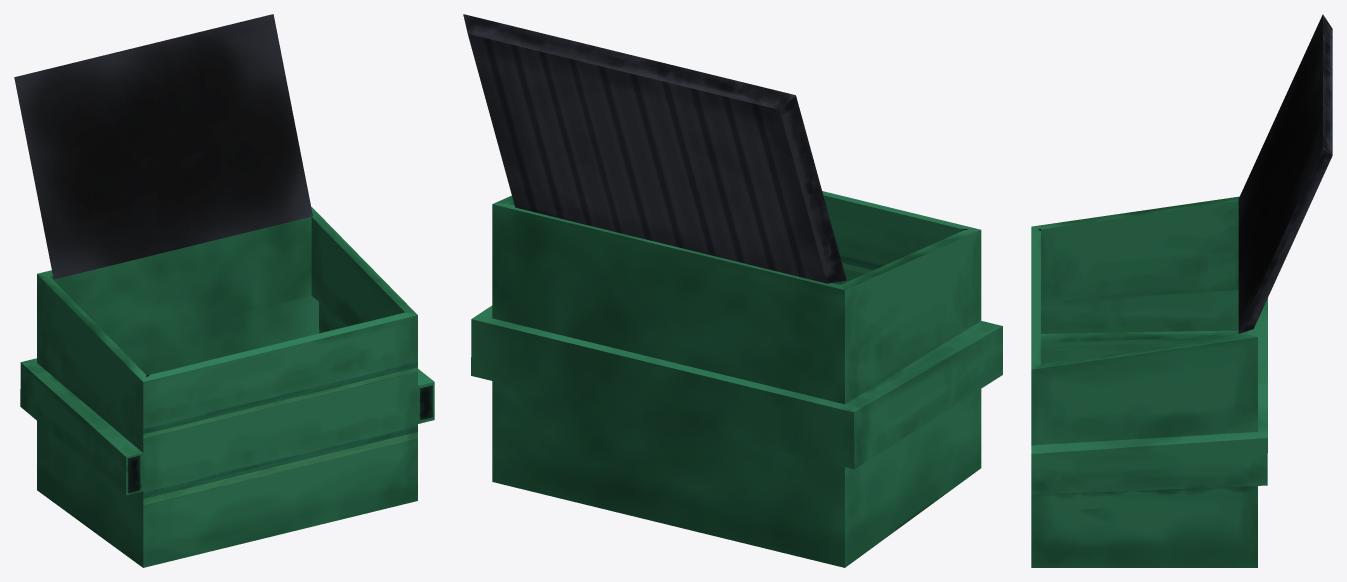
The model's file is dumpster.gltf.
3 views of the same model, side by side, from view 1: azimuth 30°, elevation 25°; view 2: azimuth 150°, elevation 25°; view 3: azimuth 270°, elevation 25° (orthographic). The views are drawn at different scales.
Parts seen in each view (by area): view 1: Dumpster, DumpsterOpener; view 2: Dumpster, DumpsterOpener; view 3: Dumpster, DumpsterOpener.
Boxes of the visible parts, box(x1,y1,x2,y2) form: Dumpster: box(20, 207, 434, 567); DumpsterOpener: box(14, 14, 312, 279); Dumpster: box(471, 191, 1002, 567); DumpsterOpener: box(463, 14, 846, 283); Dumpster: box(1031, 196, 1267, 567); DumpsterOpener: box(1238, 14, 1332, 333).
Size of the model in its own units: 2.68 by 3.23 by 2.13.
2 materials, 2 textured.
